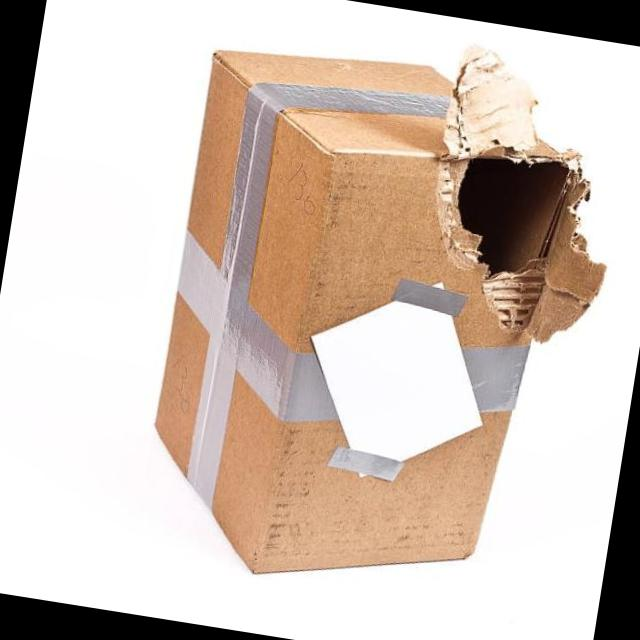box: (151, 40, 608, 575)
tear: (457, 149, 581, 290)
